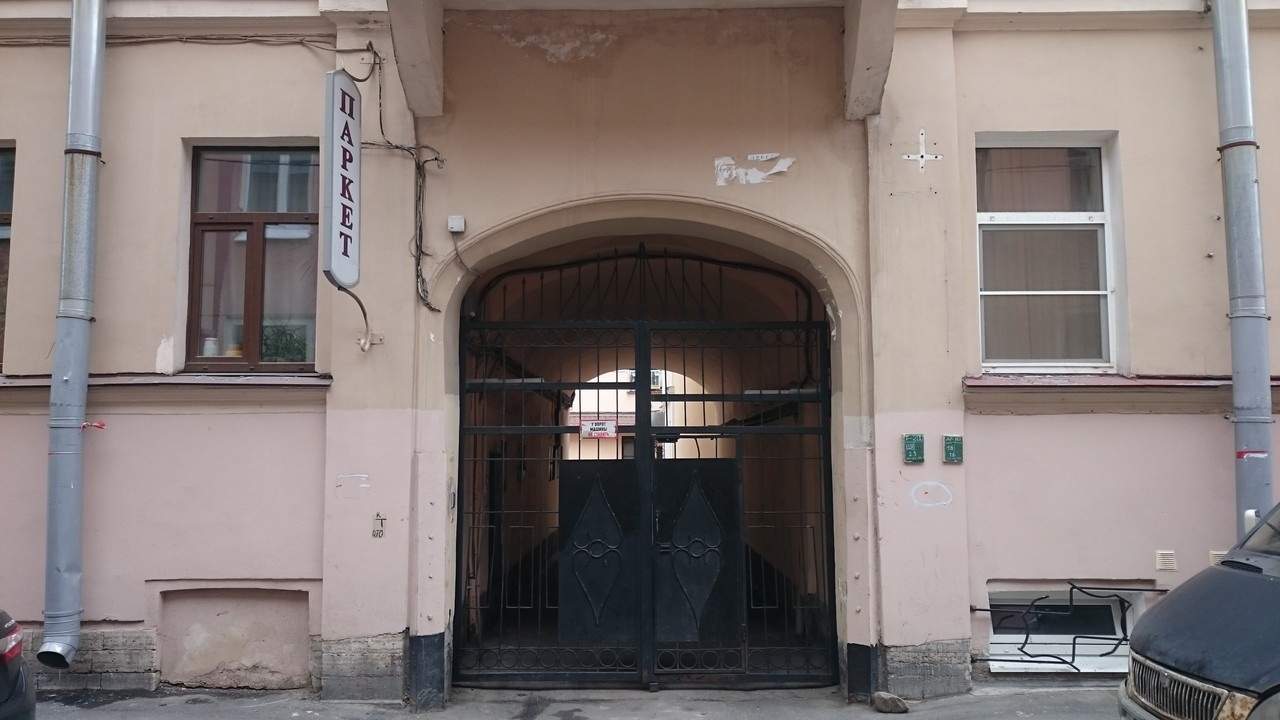arch: (427, 217, 853, 702)
cantilever: (322, 41, 396, 349)
window: (182, 143, 317, 370), (985, 142, 1104, 366)
